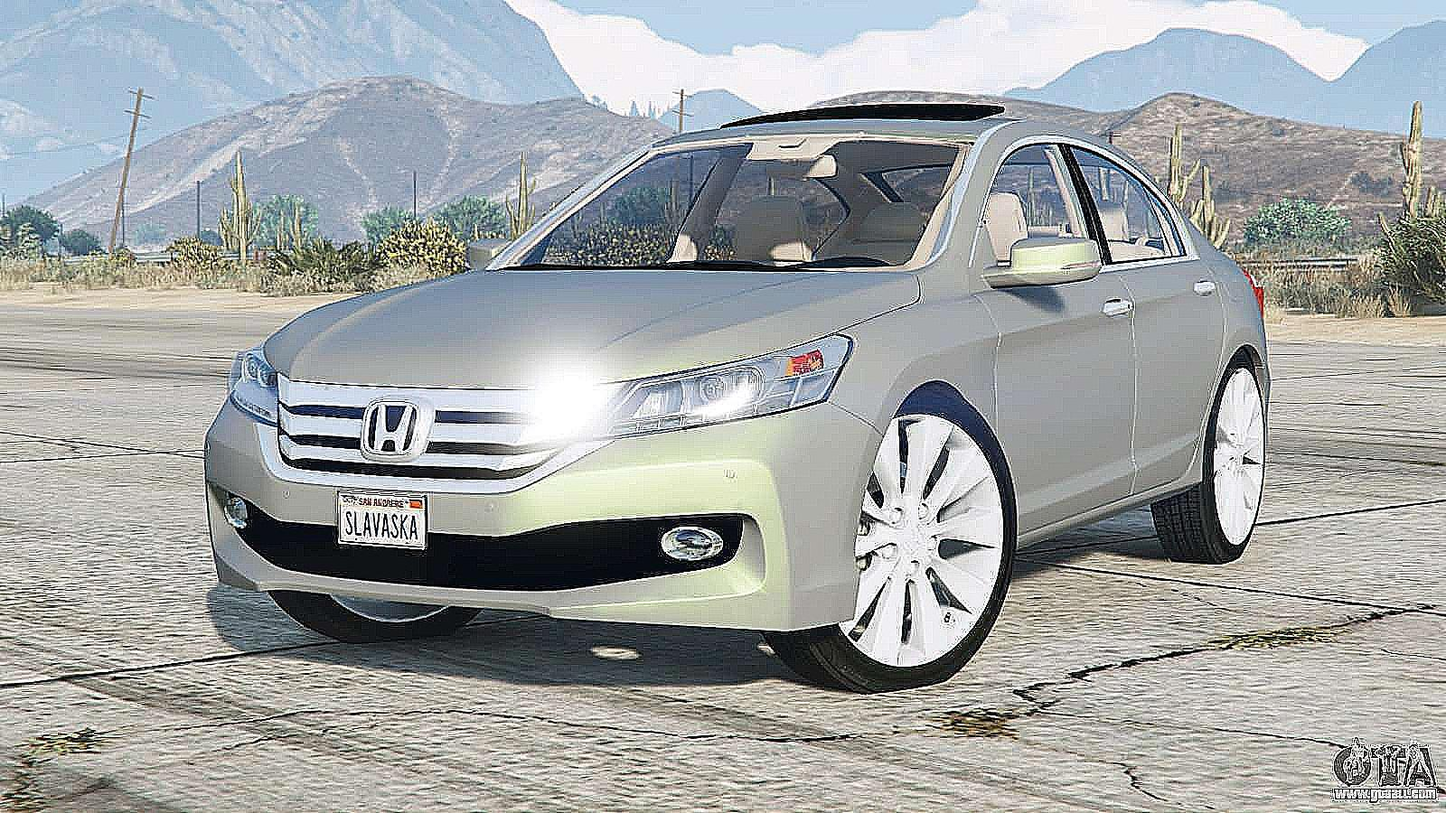Car hood: (259, 262, 924, 396)
Fender - -F-L-: (826, 263, 997, 443)
Fender - -R-L-: (1188, 228, 1259, 474)
Front bumper: (197, 402, 867, 635)
Headlight - -L-: (578, 325, 862, 444)
Headlight - -R-: (214, 334, 292, 431)
Passenger-s door - -F-L-: (992, 129, 1134, 539)
Passenger-s door - -R-L-: (1082, 133, 1232, 520)
Rear light - -L-: (1238, 256, 1274, 319)
Side bumper - -L-: (1005, 443, 1210, 555)
Side mirror - -L-: (975, 228, 1111, 303), (606, 152, 657, 255)
Side mirror - -R-: (448, 228, 521, 282)
